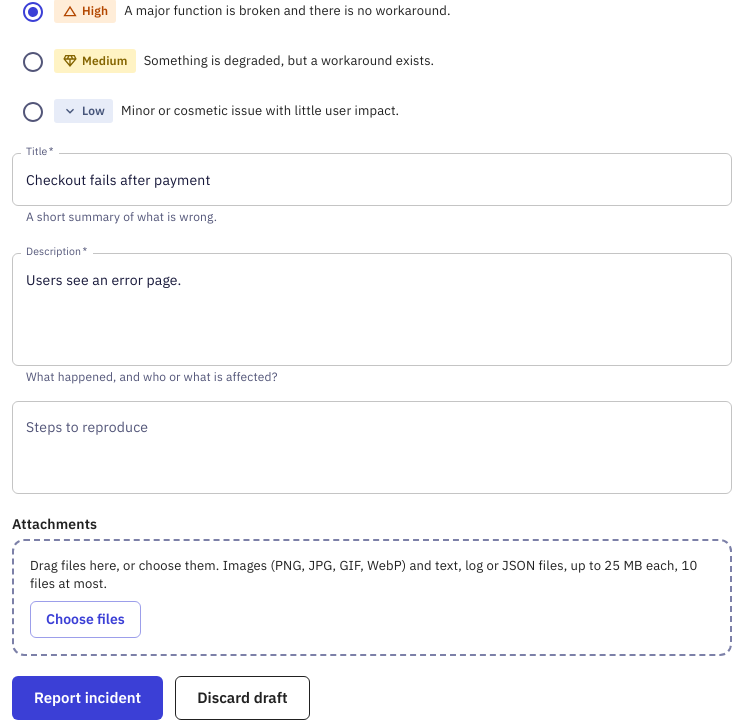
Test: ReportIncidentForm › draft autosave › keeps the draft when the submit fails with a 422
The width and height of the screenshot is (749, 720).
(page scrolled)
Step 1. Click the button "Report incident" → [88, 698], box top-left (12, 676), bottom-right (163, 719)
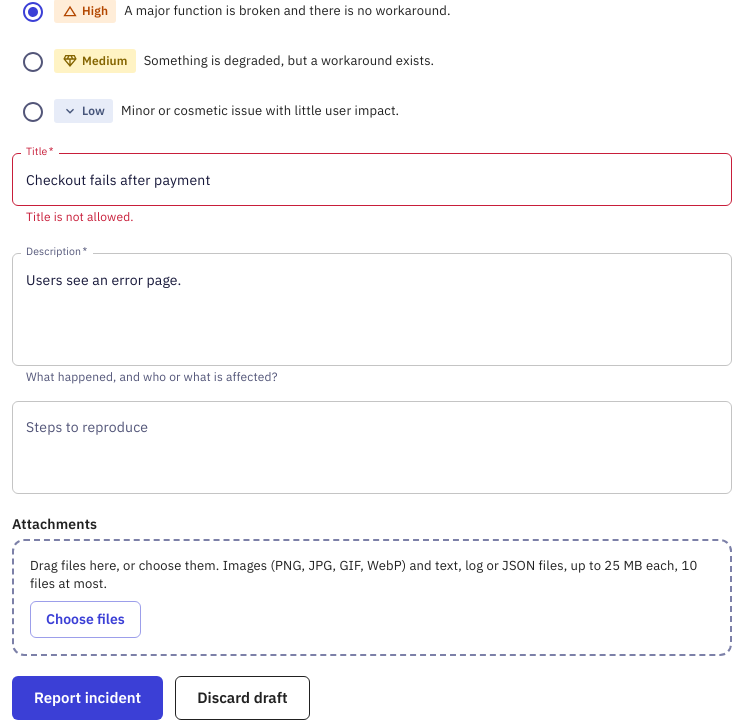
expect the text "Title is not allowed." is shown: met, box top-left (26, 209), bottom-right (134, 224)
